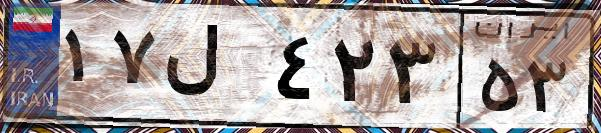1: (57, 26, 110, 100)
2: (330, 28, 385, 110)
3: (385, 28, 445, 110), (525, 38, 570, 115)
4: (270, 28, 330, 110)
5: (475, 38, 525, 113)
7: (110, 28, 158, 98)
ل: (158, 20, 270, 120)
